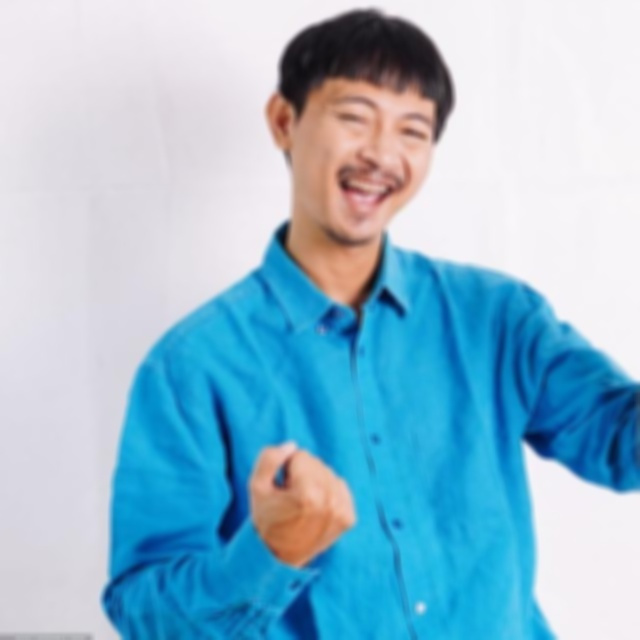Sin_Casco_Mascarrilla: (265, 8, 456, 248)
Sin_Chaleco: (165, 253, 536, 640)
